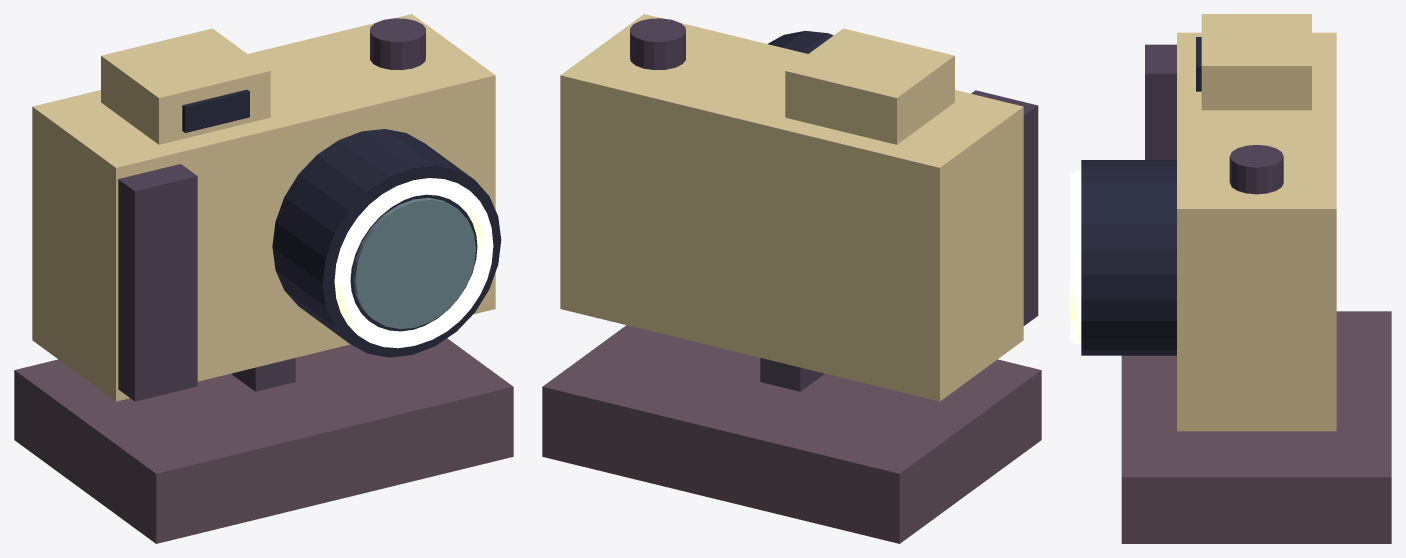
File: photography-71a8cb8b7b4d.glb
The picture shows the model from 3 angles, left to right: view 1: azimuth 30°, elevation 25°; view 2: azimuth 150°, elevation 25°; view 3: azimuth 270°, elevation 25°; orthographic projection. The views are drawn at different scales.
Parts seen in each view (by area): view 1: camera_body, plinth.001, lens, grip, viewfinder, glass, lens_rim, shutter, finder_glass, support.001; view 2: camera_body, plinth.001, viewfinder, grip, shutter, support.001, lens; view 3: camera_body, plinth.001, lens, viewfinder, grip, shutter, lens_rim.
Boxes of the visible parts, bbox=[...] form: camera_body: bbox=[32, 14, 495, 401]; plinth.001: bbox=[14, 338, 513, 543]; lens: bbox=[272, 129, 501, 357]; grip: bbox=[118, 164, 197, 401]; viewfinder: bbox=[101, 28, 270, 144]; glass: bbox=[353, 198, 475, 329]; lens_rim: bbox=[334, 178, 493, 348]; shutter: bbox=[370, 18, 425, 69]; finder_glass: bbox=[182, 89, 249, 132]; support.001: bbox=[232, 358, 295, 391]; camera_body: bbox=[560, 14, 1023, 401]; plinth.001: bbox=[542, 325, 1041, 543]; viewfinder: bbox=[785, 28, 954, 144]; grip: bbox=[971, 90, 1038, 325]; shutter: bbox=[630, 18, 685, 69]; support.001: bbox=[760, 358, 823, 391]; lens: bbox=[768, 30, 833, 53]; camera_body: bbox=[1177, 32, 1336, 431]; plinth.001: bbox=[1121, 311, 1391, 543]; lens: bbox=[1081, 160, 1176, 355]; viewfinder: bbox=[1201, 14, 1311, 110]; grip: bbox=[1145, 44, 1176, 159]; shutter: bbox=[1229, 145, 1283, 194]; lens_rim: bbox=[1070, 171, 1081, 344].
Bounding box in the file's own units: 1.7 × 1.73 × 1.31.
